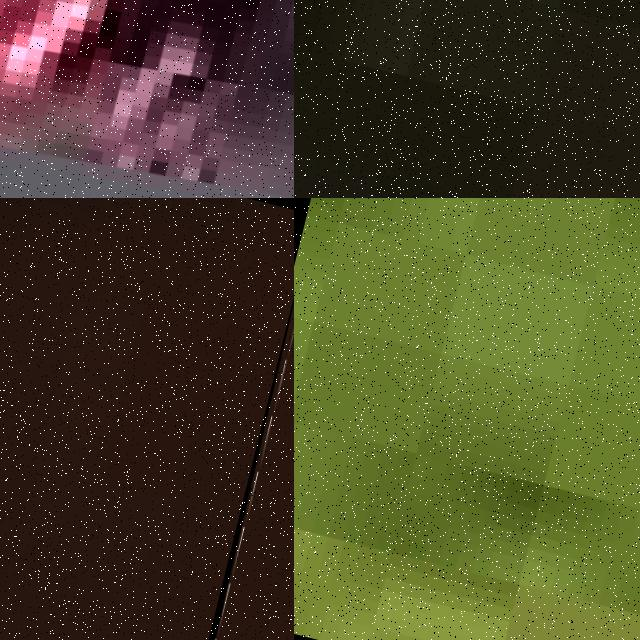drone: (0, 0, 294, 198), (159, 214, 294, 640)
